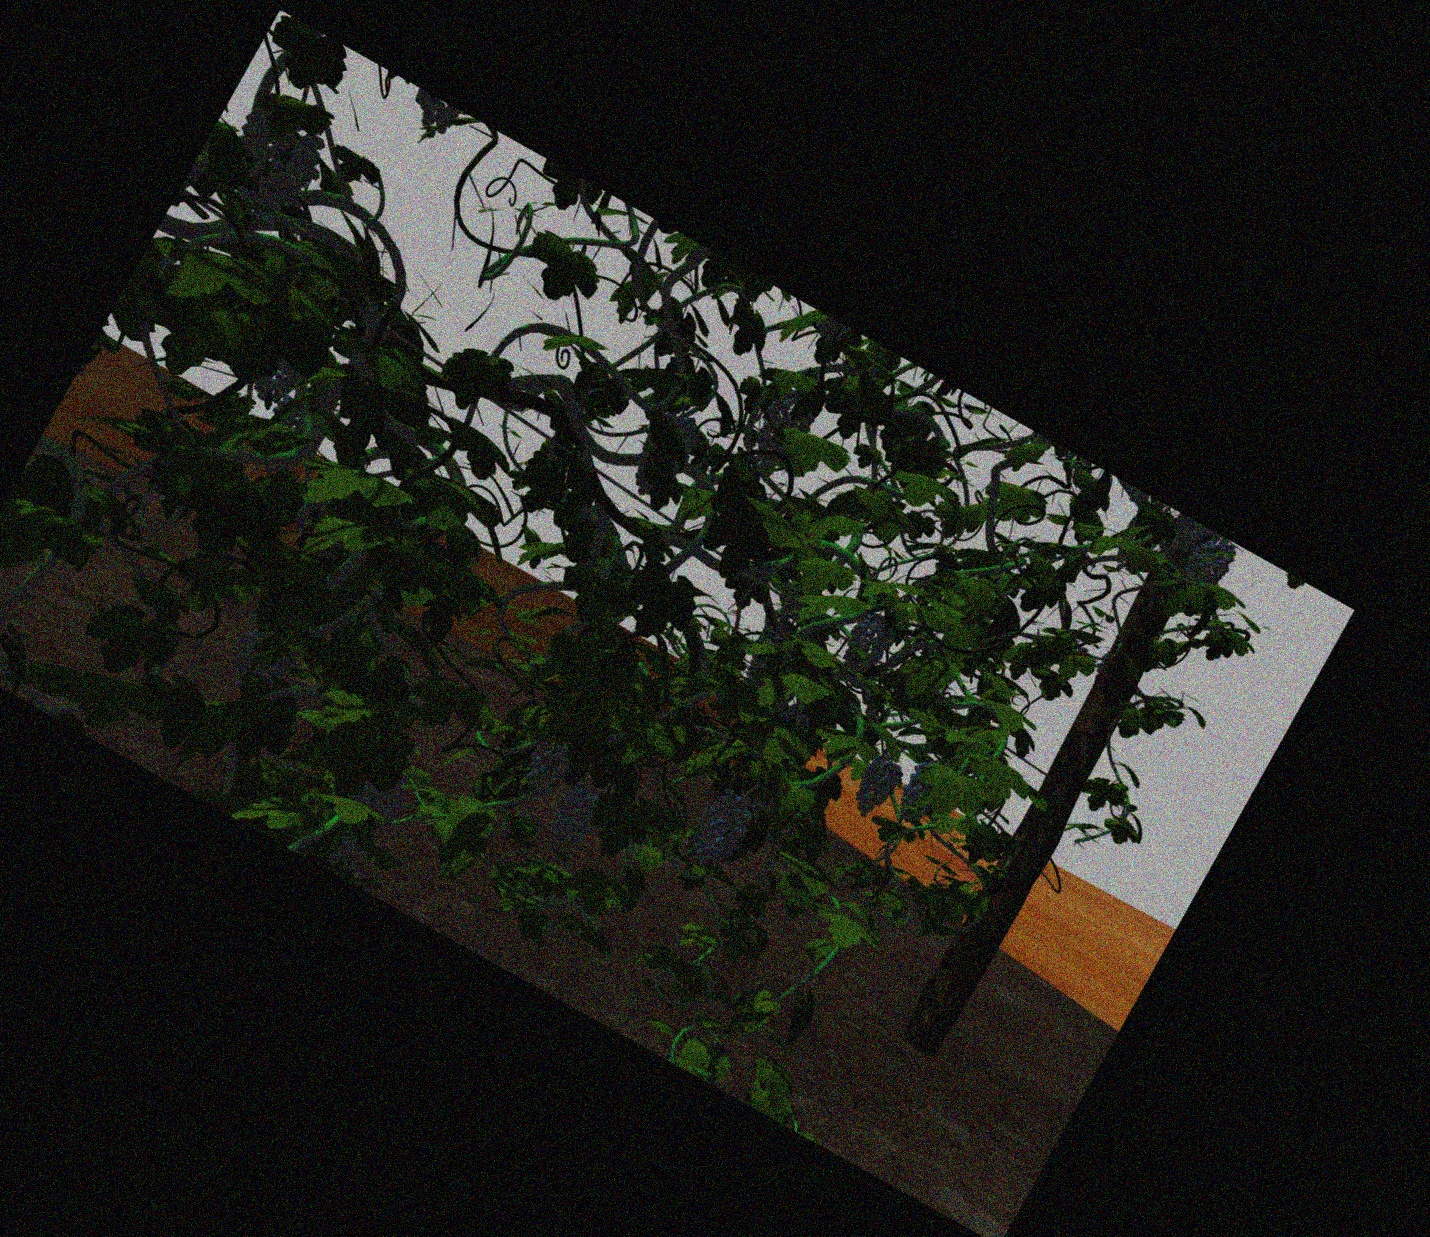grape: (230, 119, 316, 204), (337, 767, 394, 868), (696, 791, 743, 868), (231, 637, 288, 695), (554, 788, 596, 849), (849, 617, 888, 673), (855, 757, 891, 813), (1190, 539, 1229, 585), (527, 743, 565, 788), (902, 766, 933, 820)
